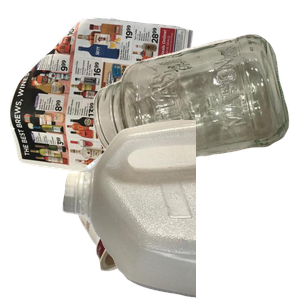glass: (91, 32, 300, 189)
paper: (10, 15, 196, 195)
plastic: (60, 120, 300, 300)
trash: (70, 149, 254, 300)
